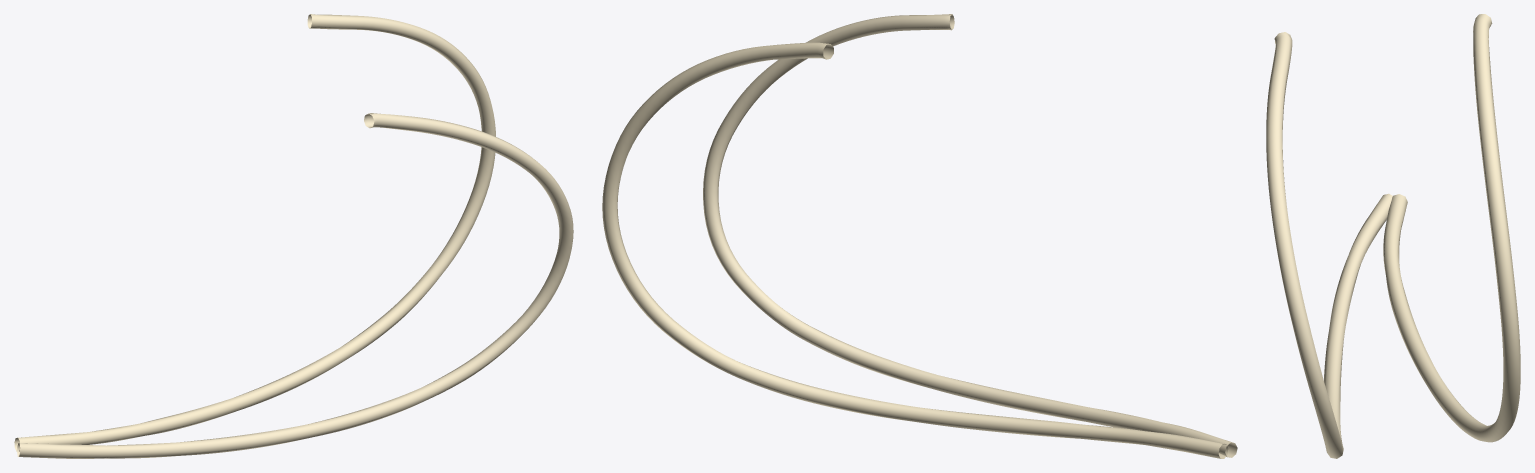
Rendered from RopeLanyard-Harness.fbx.
3 renders of one model, left to right at view 1: azimuth 30°, elevation 25°; view 2: azimuth 150°, elevation 25°; view 3: azimuth 270°, elevation 25°, orthographic. The views are drawn at different scales.
Visible parts, largest first — view 1: Obi_Rod_1, Obi_Rod; view 2: Obi_Rod, Obi_Rod_1; view 3: Obi_Rod, Obi_Rod_1.
Boxes of the visible parts, bbox=[...] form: Obi_Rod_1: bbox=[17, 113, 573, 458]; Obi_Rod: bbox=[14, 14, 495, 451]; Obi_Rod: bbox=[602, 42, 1228, 458]; Obi_Rod_1: bbox=[703, 14, 1237, 457]; Obi_Rod: bbox=[1383, 14, 1520, 442]; Obi_Rod_1: bbox=[1266, 32, 1392, 458].
Size of the model in its own units: 73.12 by 47.23 by 26.2.
